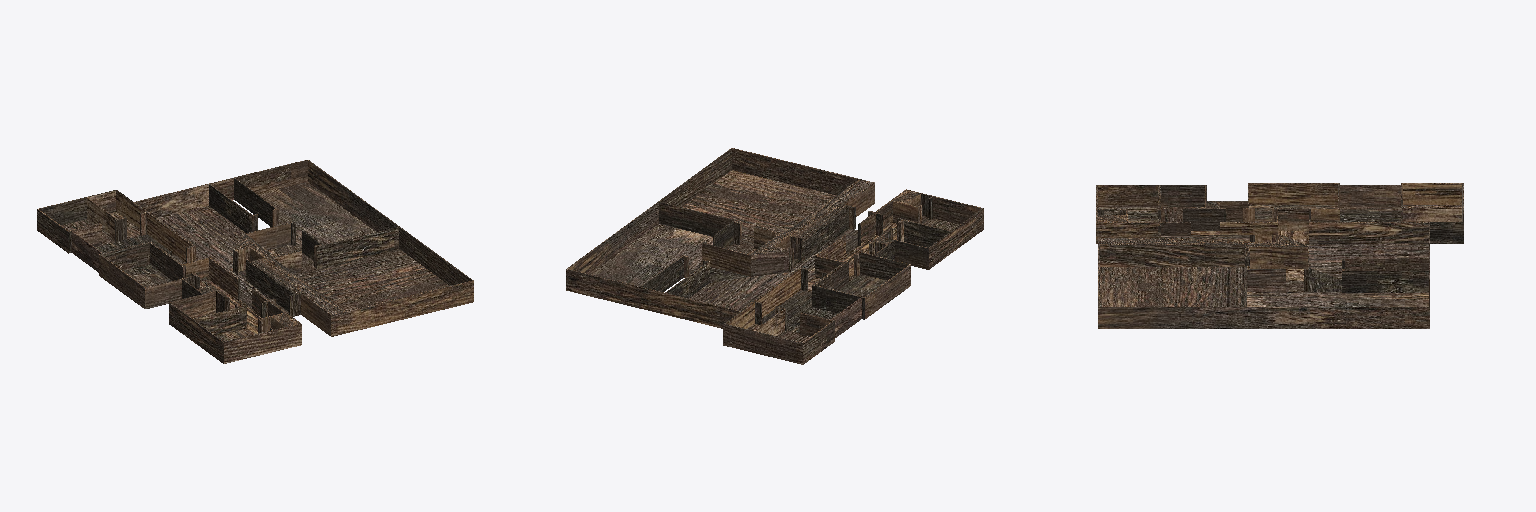
3 views of the same model, side by side, from view 1: azimuth 30°, elevation 25°; view 2: azimuth 150°, elevation 25°; view 3: azimuth 270°, elevation 25° (orthographic).
Parts seen in each view (by area): view 1: map_house_tanglewood_layer_top_outline; view 2: map_house_tanglewood_layer_top_outline; view 3: map_house_tanglewood_layer_top_outline.
Boxes of the visible parts, box(x1,y1,x2,y2) form: map_house_tanglewood_layer_top_outline: box(37, 160, 473, 363); map_house_tanglewood_layer_top_outline: box(566, 148, 983, 364); map_house_tanglewood_layer_top_outline: box(1096, 183, 1463, 328).
Bounding box in the file's own units: 0.7561 × 0.0608 × 0.9468.
1 materials, 1 textured.